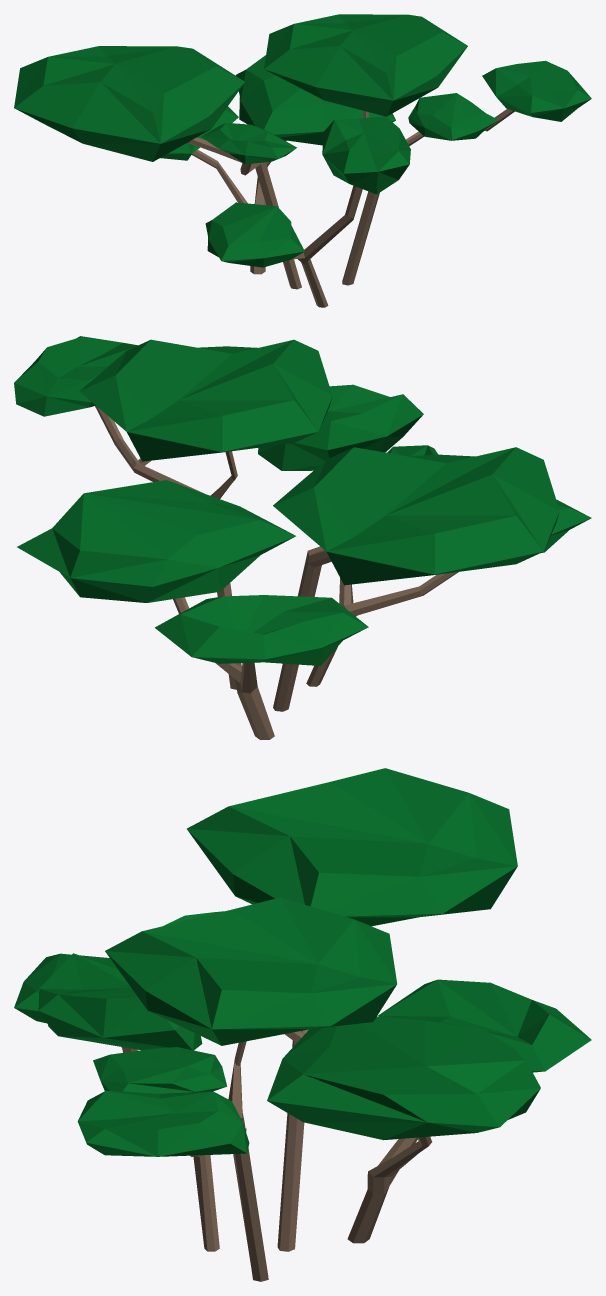
Rendered from Bush_3.fbx.
3 renders of one model, top to bottom at view 1: azimuth 30°, elevation 25°; view 2: azimuth 150°, elevation 25°; view 3: azimuth 270°, elevation 25°, orthographic. The views are drawn at different scales.
Parts seen in each view (by area): view 1: Bush_3; view 2: Bush_3; view 3: Bush_3.
Part boxes in pixels (x1,y1,x2,y2): Bush_3: [14, 14, 591, 307]; Bush_3: [14, 336, 591, 739]; Bush_3: [14, 768, 591, 1281].
Size of the model in its own units: 353 by 257 by 174.
